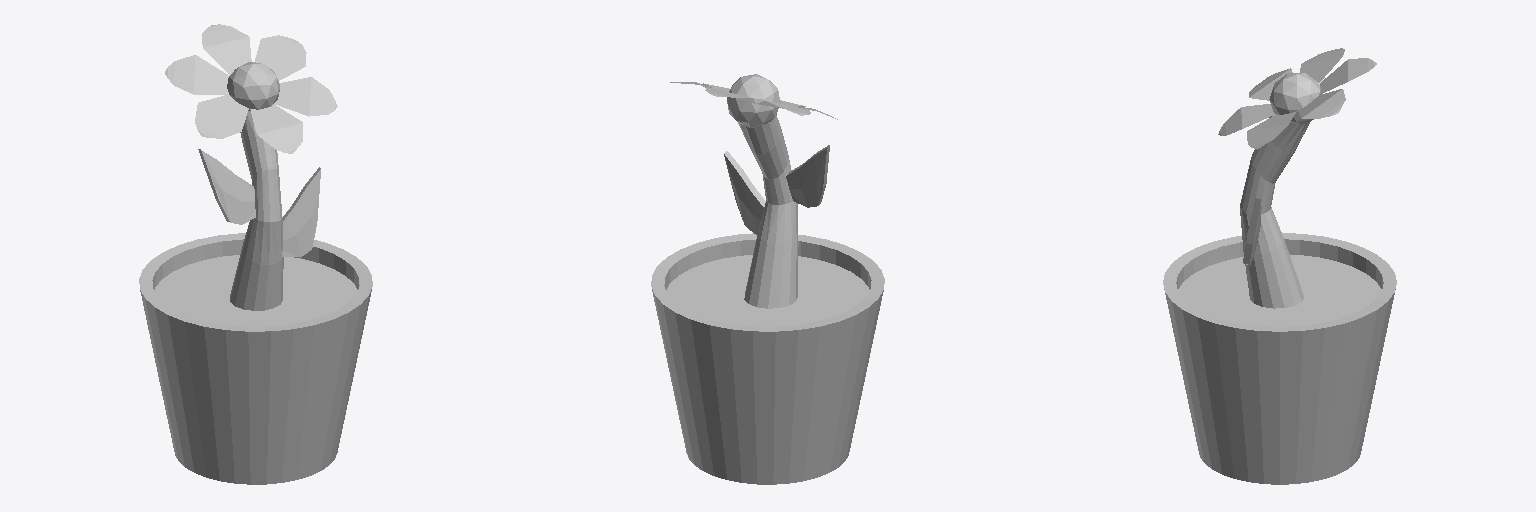
File: flowerpot.obj
3 renders of one model, left to right at view 1: azimuth 30°, elevation 25°; view 2: azimuth 150°, elevation 25°; view 3: azimuth 270°, elevation 25°, orthographic.
Parts seen in each view (by area): view 1: FlowerPot_Cylinder; view 2: FlowerPot_Cylinder; view 3: FlowerPot_Cylinder.
Part boxes in pixels (x1,y1,x2,y2): FlowerPot_Cylinder: (139, 24, 372, 484); FlowerPot_Cylinder: (651, 74, 884, 484); FlowerPot_Cylinder: (1163, 48, 1396, 484).
Bounding box in the file's own units: 1.21 × 2.22 × 1.21.